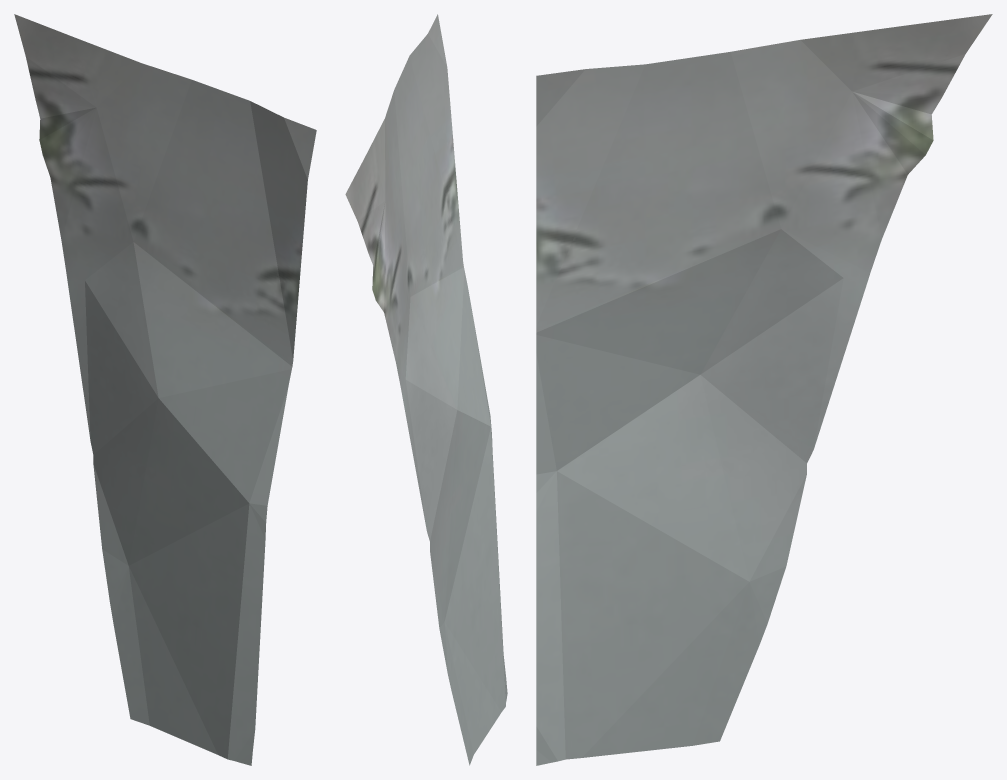
The picture shows the model from 3 angles, left to right: view 1: azimuth 30°, elevation 25°; view 2: azimuth 150°, elevation 25°; view 3: azimuth 270°, elevation 25°; orthographic projection. The views are drawn at different scales.
Bounding box in the file's own units: 0.3053 × 1.67 × 0.9527.
1 material, 1 textured.
